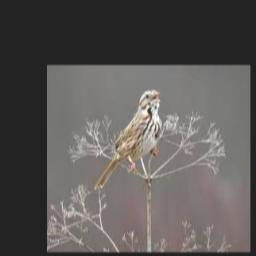Sparrow: (94, 89, 163, 190)
